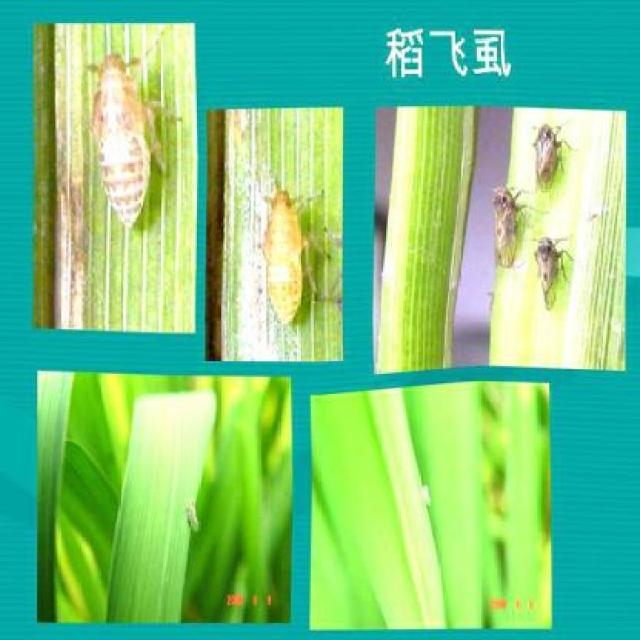brown-planthopper: (83, 46, 169, 229), (256, 189, 319, 331), (487, 184, 521, 270), (528, 123, 562, 191), (534, 236, 563, 307), (184, 500, 202, 534), (420, 483, 434, 511)
